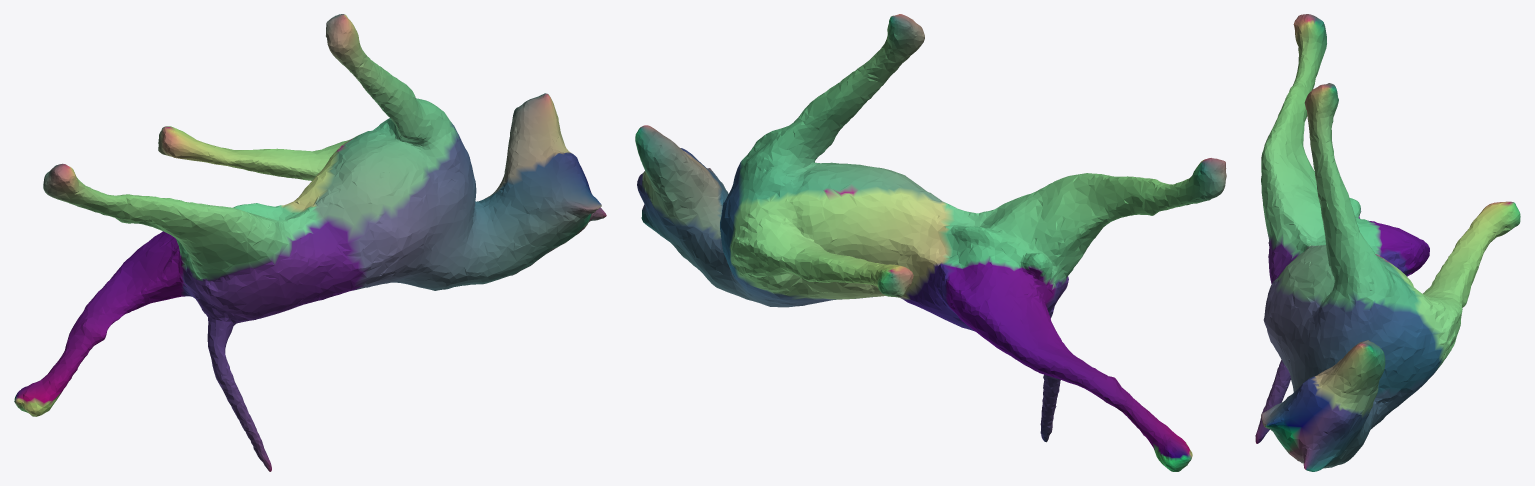
Rendered from dog2-12.off.obj.
3 views of the same model, side by side, from view 1: azimuth 30°, elevation 25°; view 2: azimuth 150°, elevation 25°; view 3: azimuth 270°, elevation 25° (orthographic). The views are drawn at different scales.
Size of the model in its own units: 1.56 by 1.09 by 0.6339.
